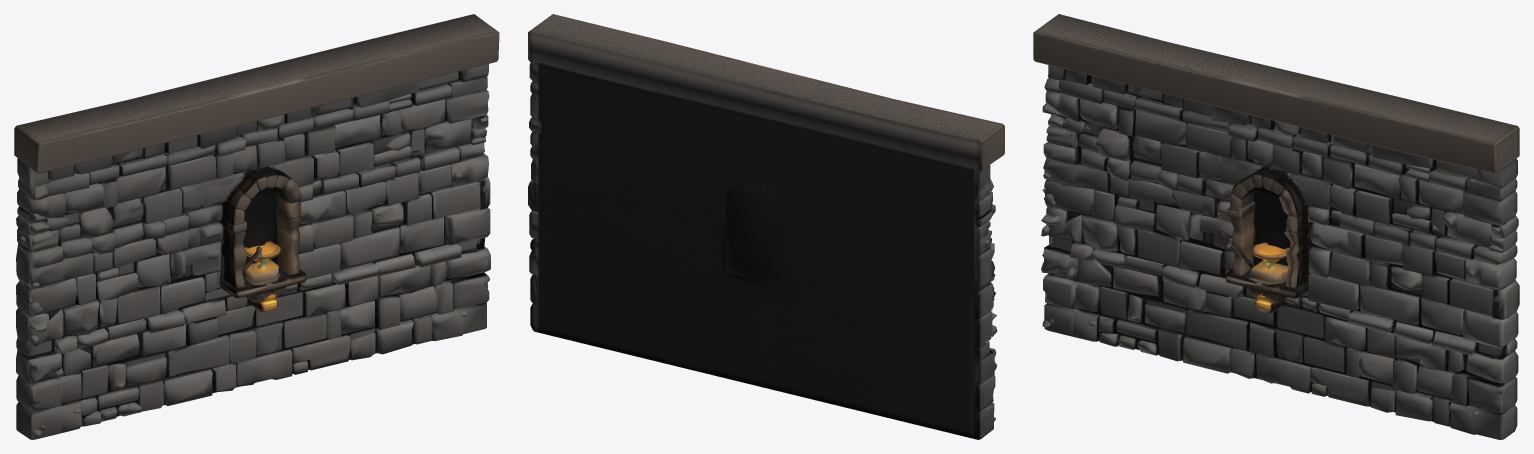
File: muro_nicchia.fbx
3 views of the same model, side by side, from view 1: azimuth 30°, elevation 25°; view 2: azimuth 150°, elevation 25°; view 3: azimuth 330°, elevation 25° (orthographic).
Parts seen in each view (by area): view 1: tripo_node_c9fe4293; view 2: tripo_node_c9fe4293; view 3: tripo_node_c9fe4293.
Part boxes in pixels (box(x1,y1,x2,y2)): tripo_node_c9fe4293: box(14, 14, 499, 439); tripo_node_c9fe4293: box(528, 14, 1004, 439); tripo_node_c9fe4293: box(1033, 14, 1519, 439).
Bounding box in the file's own units: 0.9995 × 0.6313 × 0.145.
1 material, 1 textured.
